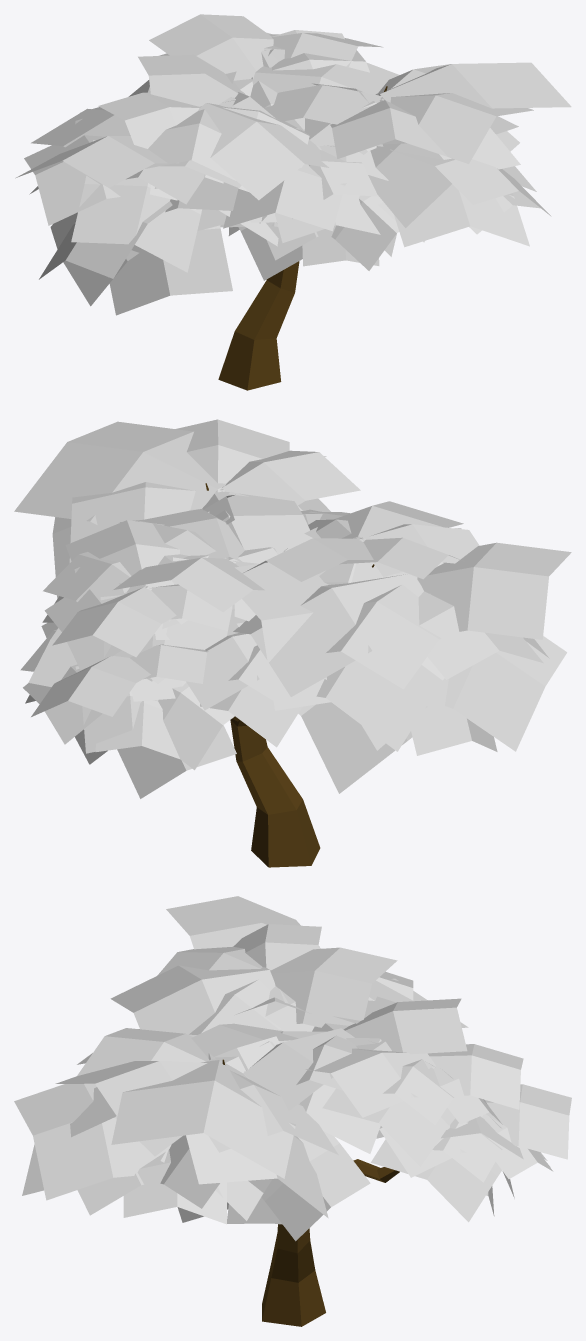
The model's file is Tree_Green_03.glb.
3 renders of one model, top to bottom at view 1: azimuth 30°, elevation 25°; view 2: azimuth 150°, elevation 25°; view 3: azimuth 270°, elevation 25°, orthographic. The views are drawn at different scales.
Visible parts, largest first — view 1: Tree_Green_03; view 2: Tree_Green_03; view 3: Tree_Green_03.
Part boxes in pixels (x1,y1,x2,y2): Tree_Green_03: [15, 14, 571, 390]; Tree_Green_03: [14, 419, 571, 867]; Tree_Green_03: [14, 896, 571, 1326].
Size of the model in its own units: 19.19 by 11.48 by 17.89.
